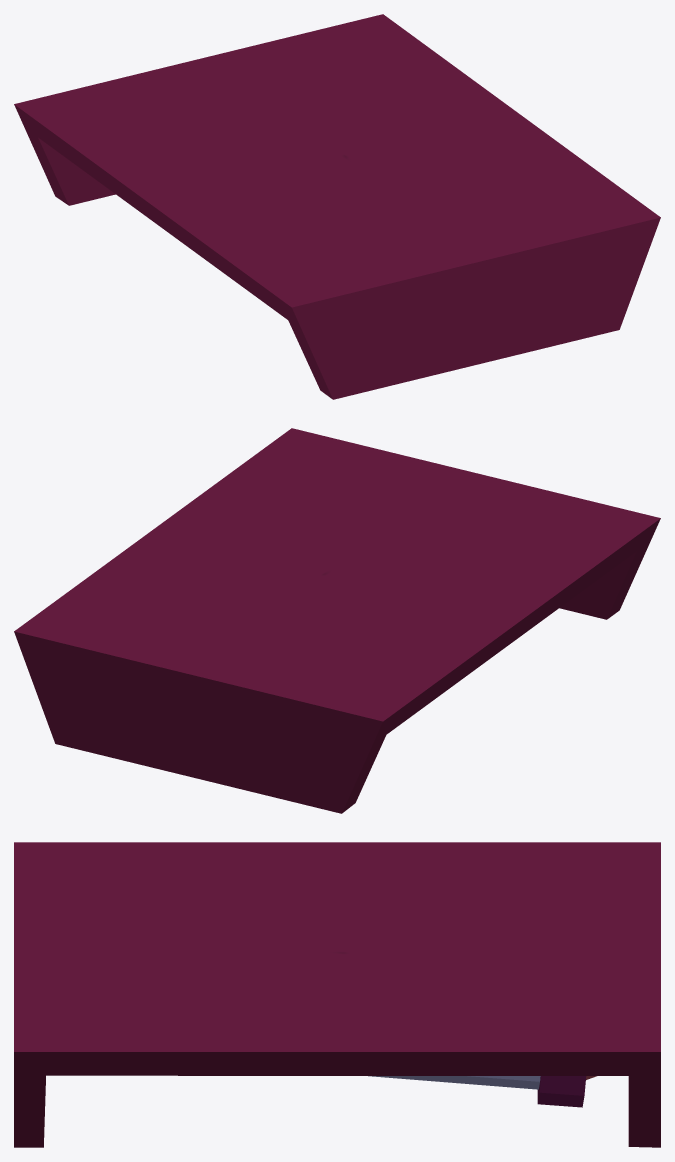
Rendered from JefeT.fbx.
The picture shows the model from 3 angles, top to bottom: view 1: azimuth 30°, elevation 25°; view 2: azimuth 150°, elevation 25°; view 3: azimuth 270°, elevation 25°; orthographic projection. The views are drawn at different scales.
Visible parts, largest first — view 1: Techo; view 2: Techo; view 3: Techo, Rayo laser.
Boxes of the visible parts, x1=… form: Techo: x1=14, y1=14, x2=660, y2=399; Techo: x1=14, y1=428, x2=660, y2=813; Techo: x1=14, y1=842, x2=660, y2=1147; Rayo laser: x1=368, y1=1076, x2=596, y2=1107.
Size of the model in its own units: 307 by 105 by 400.
